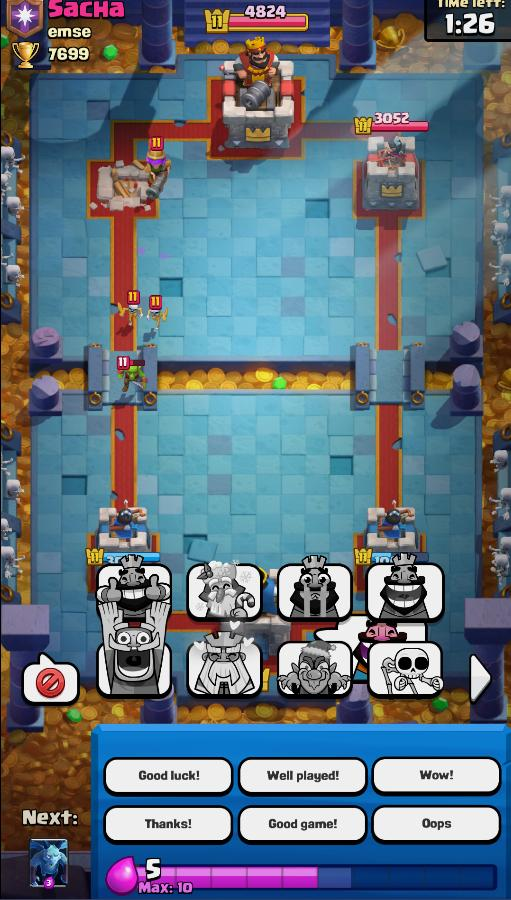gobelin: (119, 367, 149, 394)
mousquetaire: (138, 148, 176, 198)
squelette: (117, 299, 145, 327), (146, 307, 170, 334)
